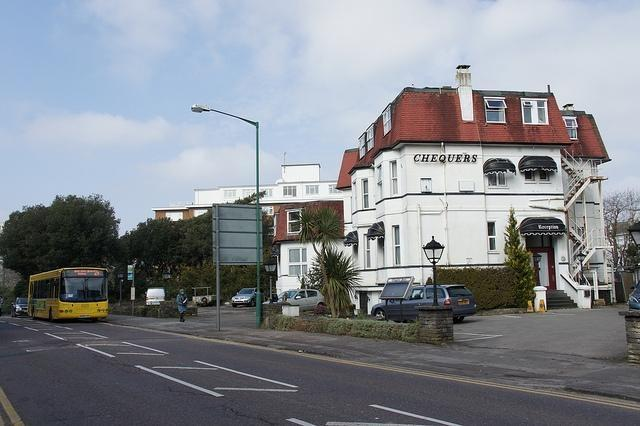bus: (27, 268, 108, 322)
car: (369, 284, 477, 322), (264, 290, 326, 312), (232, 288, 266, 307), (10, 298, 29, 317), (629, 280, 640, 310)
